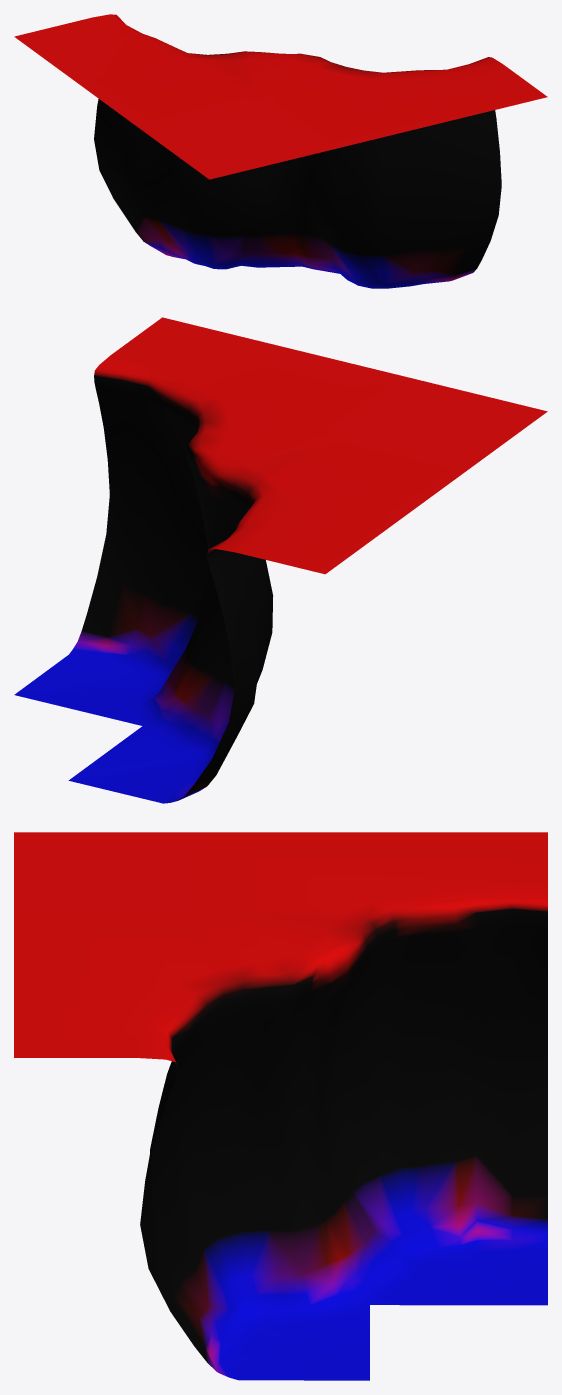
Rendered from GroundCliff04A 2M for Water Background.fbx.
The picture shows the model from 3 angles, top to bottom: view 1: azimuth 30°, elevation 25°; view 2: azimuth 150°, elevation 25°; view 3: azimuth 270°, elevation 25°; orthographic projection. The views are drawn at different scales.
Visible parts, largest first — view 1: GroundCliff04A 2M for Water Background; view 2: GroundCliff04A 2M for Water Background; view 3: GroundCliff04A 2M for Water Background.
Part boxes in pixels (<box>): GroundCliff04A 2M for Water Background: <box>14,14,547,288</box>; GroundCliff04A 2M for Water Background: <box>14,317,547,803</box>; GroundCliff04A 2M for Water Background: <box>14,832,547,1380</box>.
Bounding box in the file's own units: 3 × 2 × 3.
